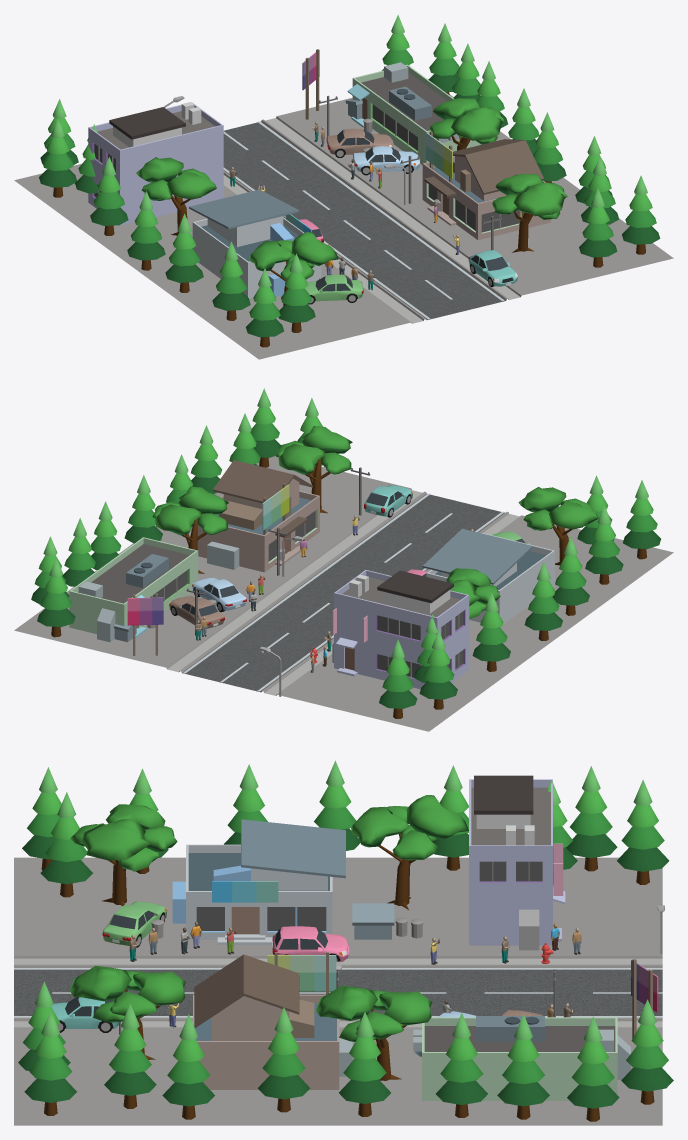
The model's file is SM_Block_BG_C.fbx.
3 renders of one model, top to bottom at view 1: azimuth 30°, elevation 25°; view 2: azimuth 150°, elevation 25°; view 3: azimuth 270°, elevation 25°, orthographic. The views are drawn at different scales.
Visible parts, largest first — view 1: SM_Block_BG_C; view 2: SM_Block_BG_C; view 3: SM_Block_BG_C.
Part boxes in pixels (left/top/right/bottom): SM_Block_BG_C: left=14, top=14, right=673, bottom=359; SM_Block_BG_C: left=14, top=388, right=673, bottom=731; SM_Block_BG_C: left=14, top=760, right=673, bottom=1125.
Bounding box in the file's own units: 3043 × 647 × 3052.
